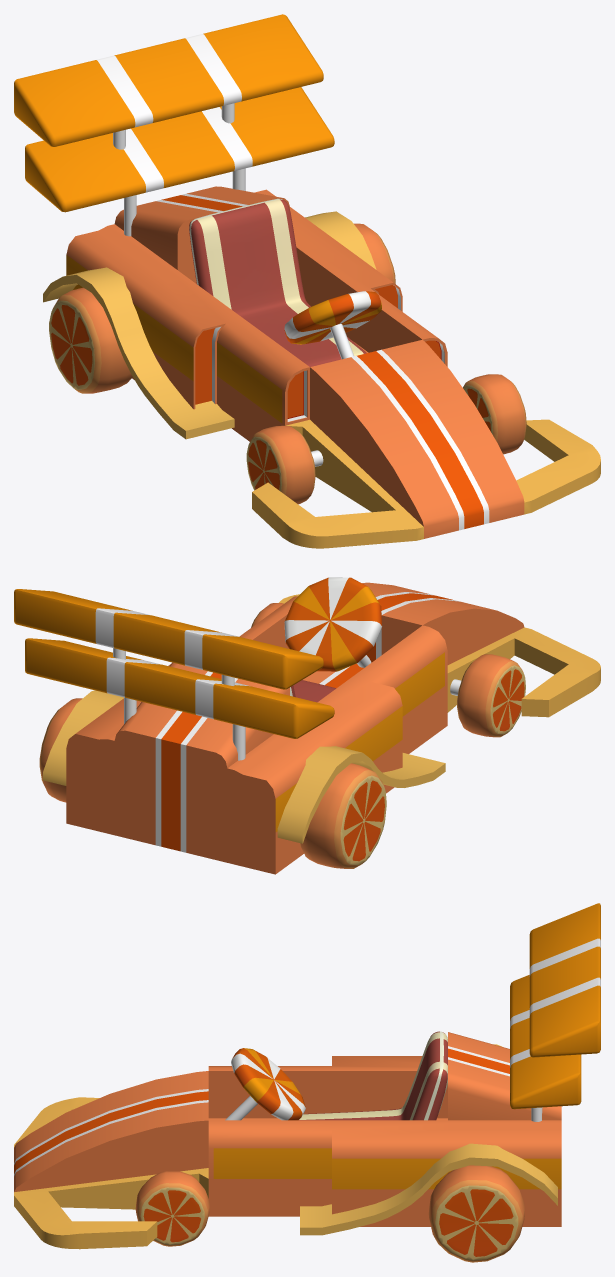
The model's file is cw_car9.fbx.
The picture shows the model from 3 angles, top to bottom: view 1: azimuth 30°, elevation 25°; view 2: azimuth 150°, elevation 25°; view 3: azimuth 270°, elevation 25°; orthographic projection. The views are drawn at different scales.
Parts seen in each view (by area): view 1: cw_car9, w9.002, w9, w9.001, w9.003; view 2: cw_car9, w9.002, w9, w9.003; view 3: cw_car9, w9.003, w9.001.
Boxes of the visible parts, x1,y1,x2,y2 form: cw_car9: [14, 14, 600, 548]; w9.002: [49, 287, 132, 393]; w9: [246, 425, 315, 504]; w9.001: [463, 374, 526, 454]; w9.003: [354, 223, 395, 283]; cw_car9: [14, 577, 600, 874]; w9.002: [300, 763, 386, 868]; w9: [457, 654, 525, 737]; w9.003: [39, 698, 82, 802]; cw_car9: [14, 903, 600, 1249]; w9.003: [428, 1165, 524, 1262]; w9.001: [135, 1171, 209, 1246].
Bounding box in the file's own units: 118 × 95.11 × 214.
